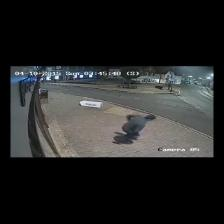person: (122, 115, 156, 142)
